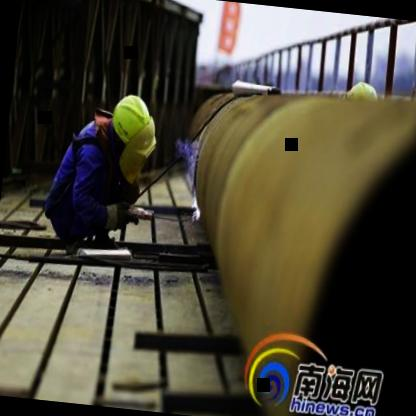helmet: (106, 90, 161, 167)
